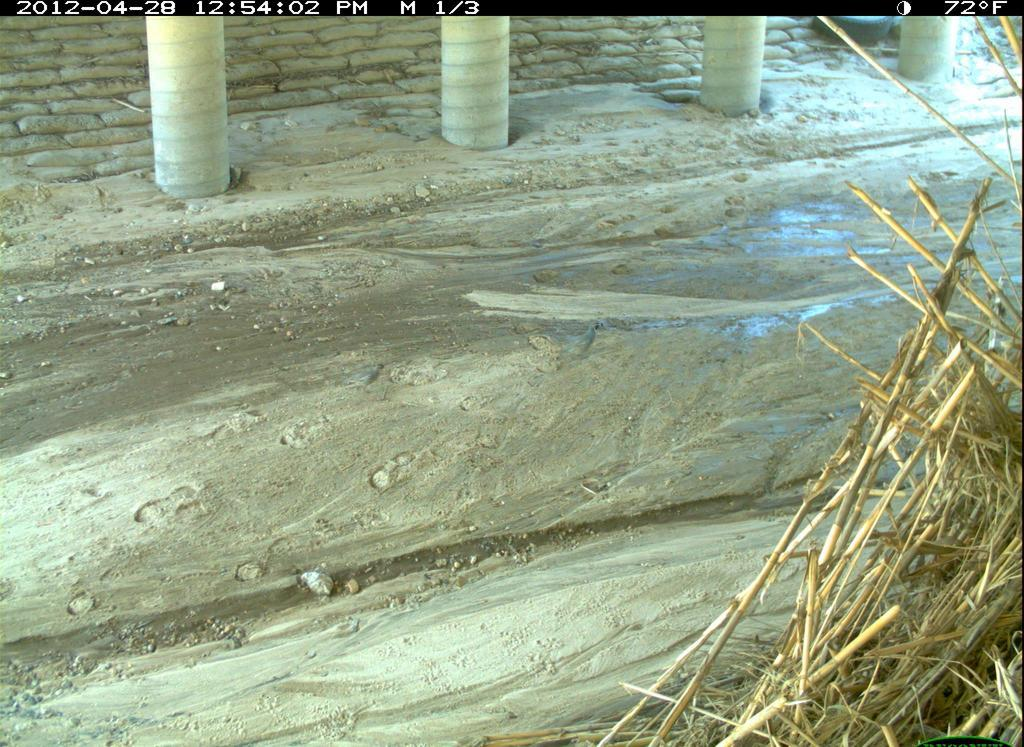bird: (555, 321, 606, 368), (340, 362, 390, 397)
